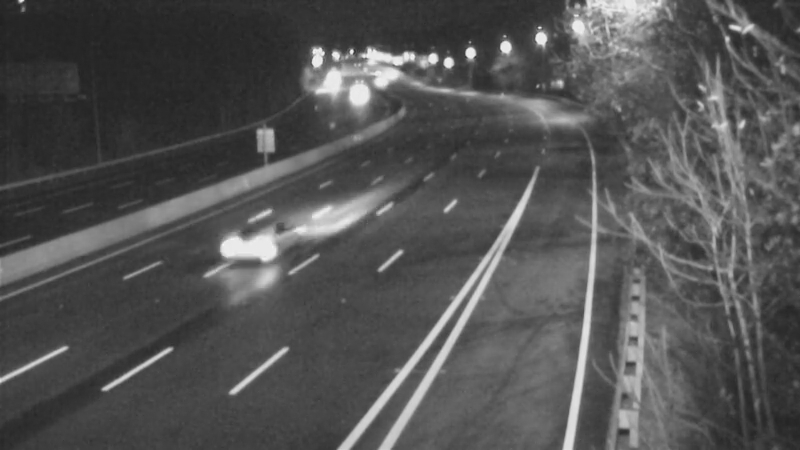vehicle: (220, 204, 300, 284), (353, 58, 403, 108), (331, 70, 381, 120), (306, 56, 356, 106)
